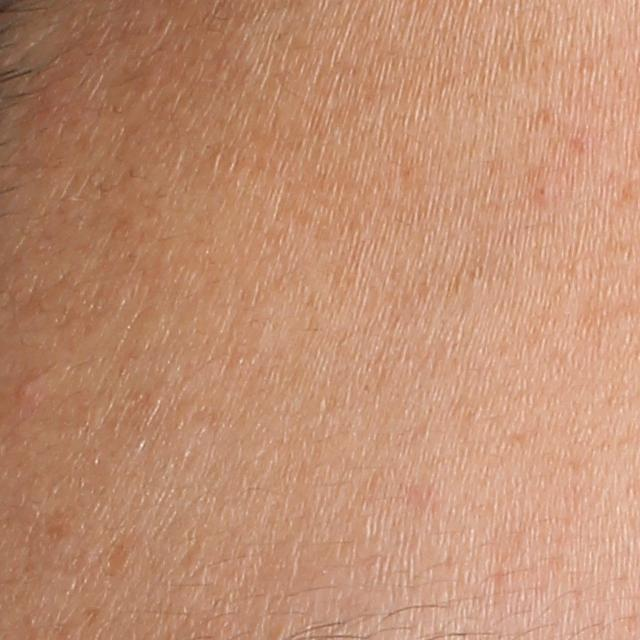papule: (16, 380, 35, 400)
